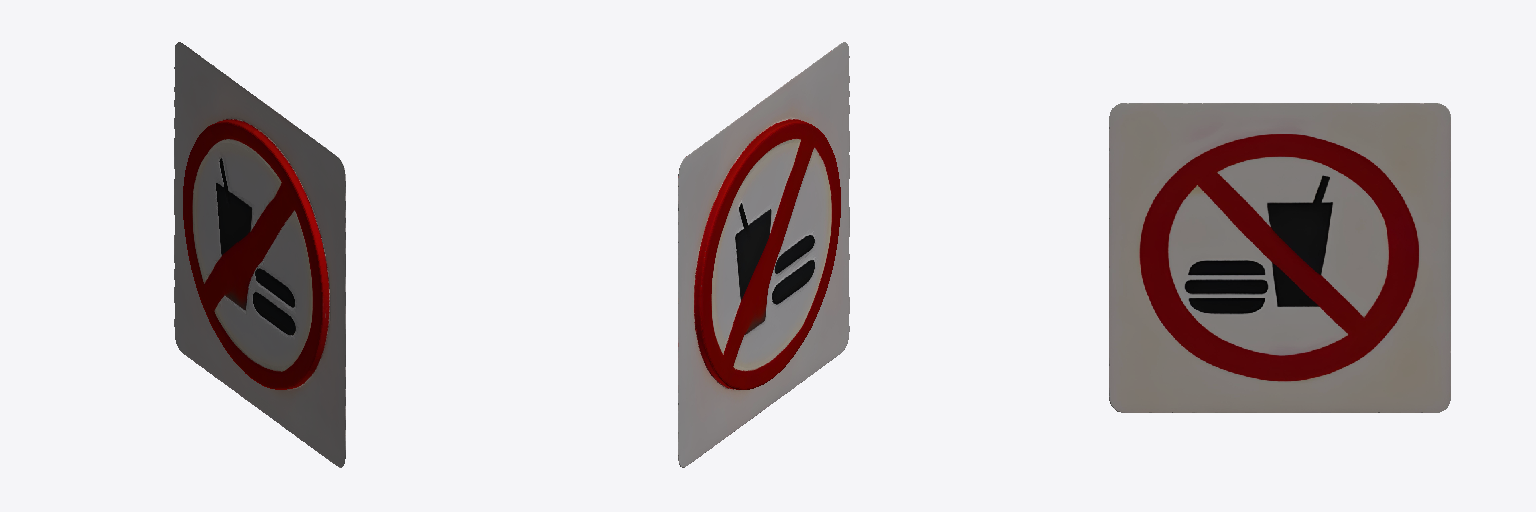
3 views of the same model, side by side, from view 1: azimuth 30°, elevation 25°; view 2: azimuth 150°, elevation 25°; view 3: azimuth 270°, elevation 25° (orthographic).
Visible parts, largest first — view 1: tripo_node_17f7ad88-3ba4-464d-ac30-21b89121dbfd; view 2: tripo_node_17f7ad88-3ba4-464d-ac30-21b89121dbfd; view 3: tripo_node_17f7ad88-3ba4-464d-ac30-21b89121dbfd.
Boxes of the visible parts, x1,y1,x2,y2 form: tripo_node_17f7ad88-3ba4-464d-ac30-21b89121dbfd: [174, 42, 345, 467]; tripo_node_17f7ad88-3ba4-464d-ac30-21b89121dbfd: [678, 42, 849, 467]; tripo_node_17f7ad88-3ba4-464d-ac30-21b89121dbfd: [1109, 103, 1450, 412].
Size of the model in its own units: 0.0302 by 0.9986 by 0.9987.
1 materials, 1 textured.